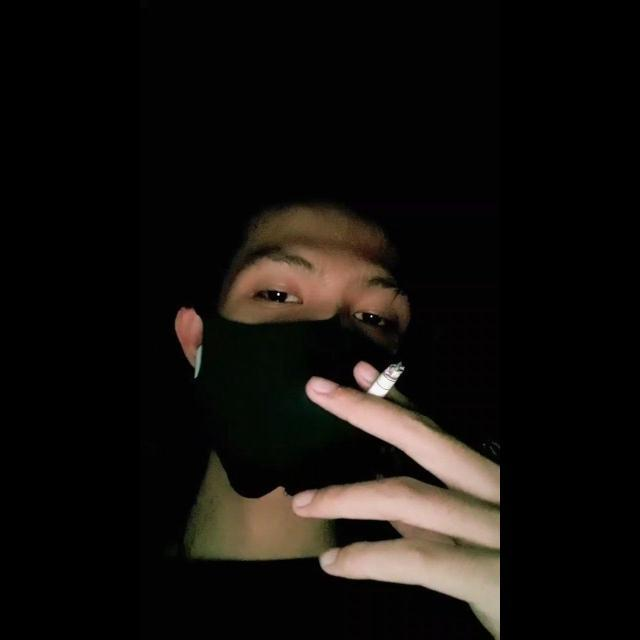rokok: (364, 353, 406, 402)
